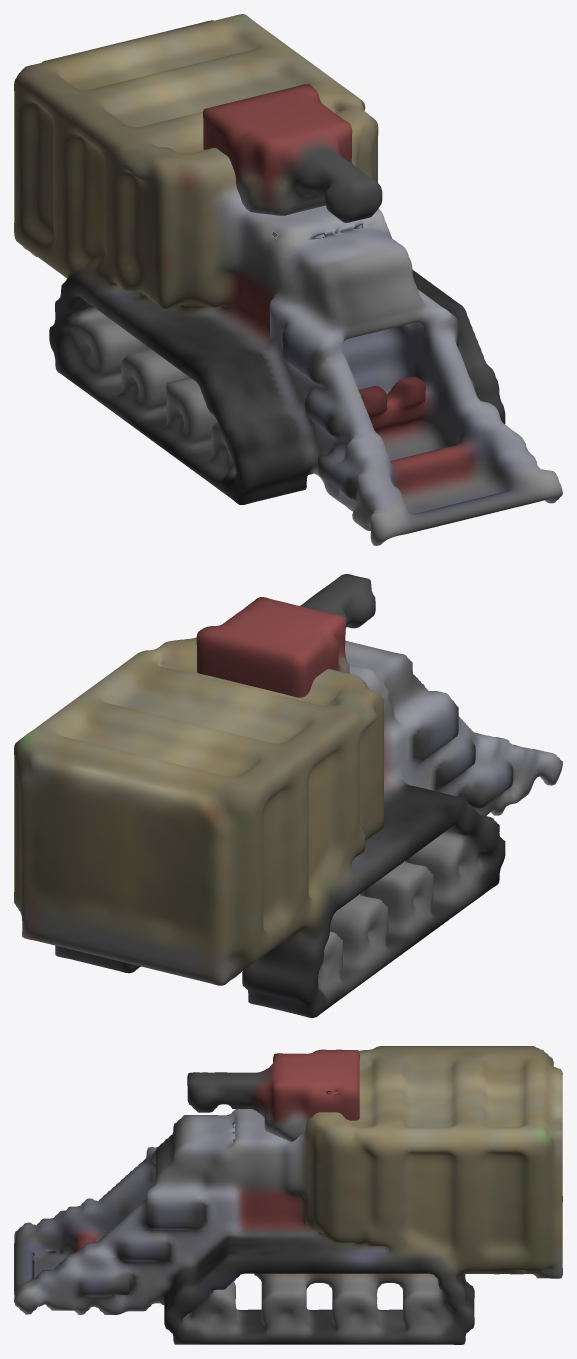
Rendered from harv.glb.
3 views of the same model, one above another, from view 1: azimuth 30°, elevation 25°; view 2: azimuth 150°, elevation 25°; view 3: azimuth 270°, elevation 25° (orthographic). The views are drawn at different scales.
Parts seen in each view (by area): view 1: harv; view 2: harv; view 3: harv.
Boxes of the visible parts, x1,y1,x2,y2 form: harv: (14,14,562,545); harv: (14,574,562,1017); harv: (14,1046,562,1344).
Bounding box in the file's own units: 2.22 × 2.38 × 5.16.
